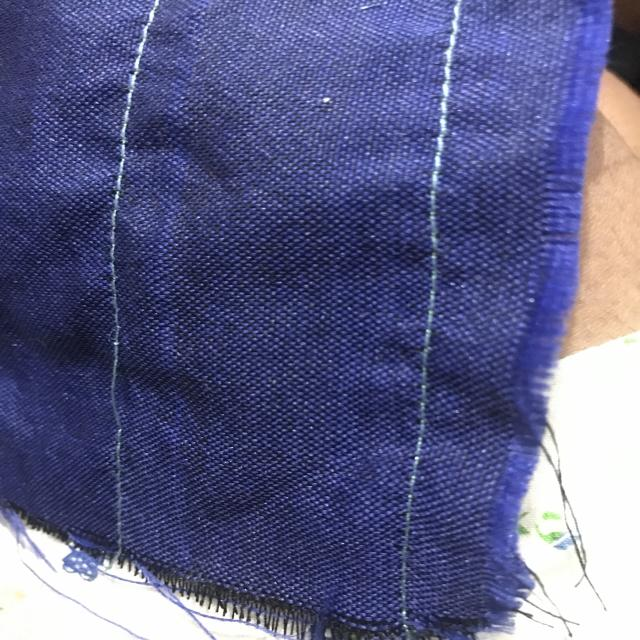good: (94, 192, 138, 286)
skip: (83, 331, 151, 453)
